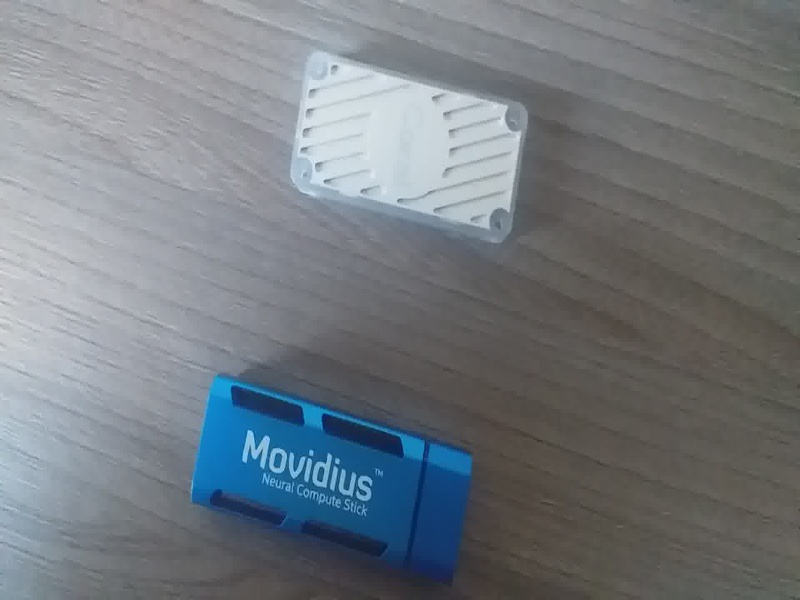coral: (282, 40, 530, 283)
movidius: (182, 364, 476, 600)
